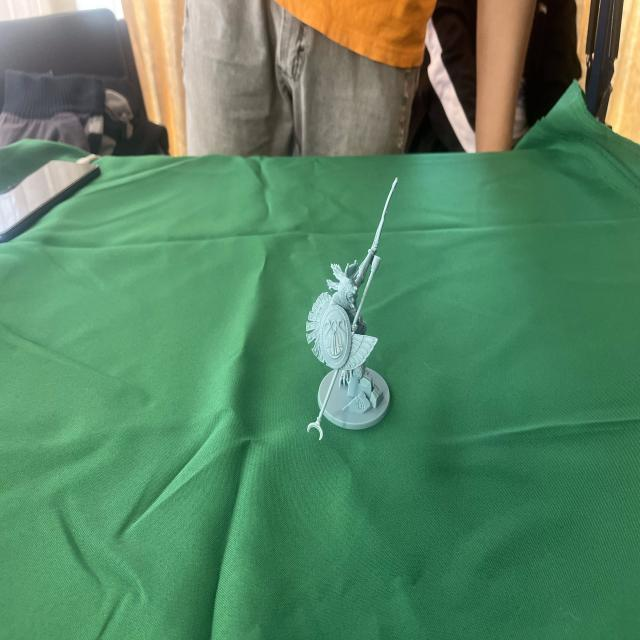isis: (297, 161, 408, 464)
